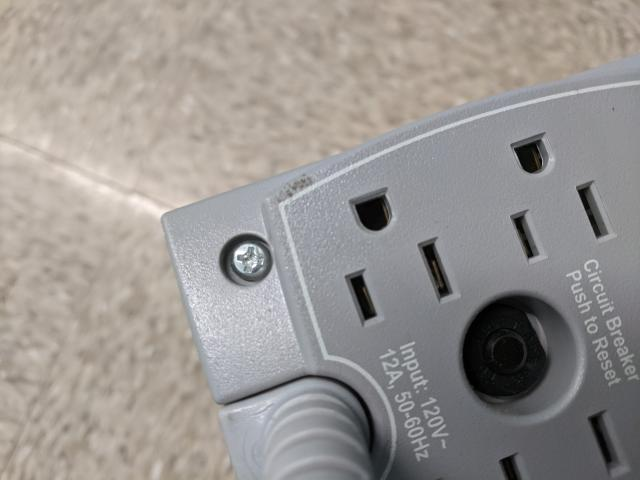CRS: (227, 236, 279, 287)
